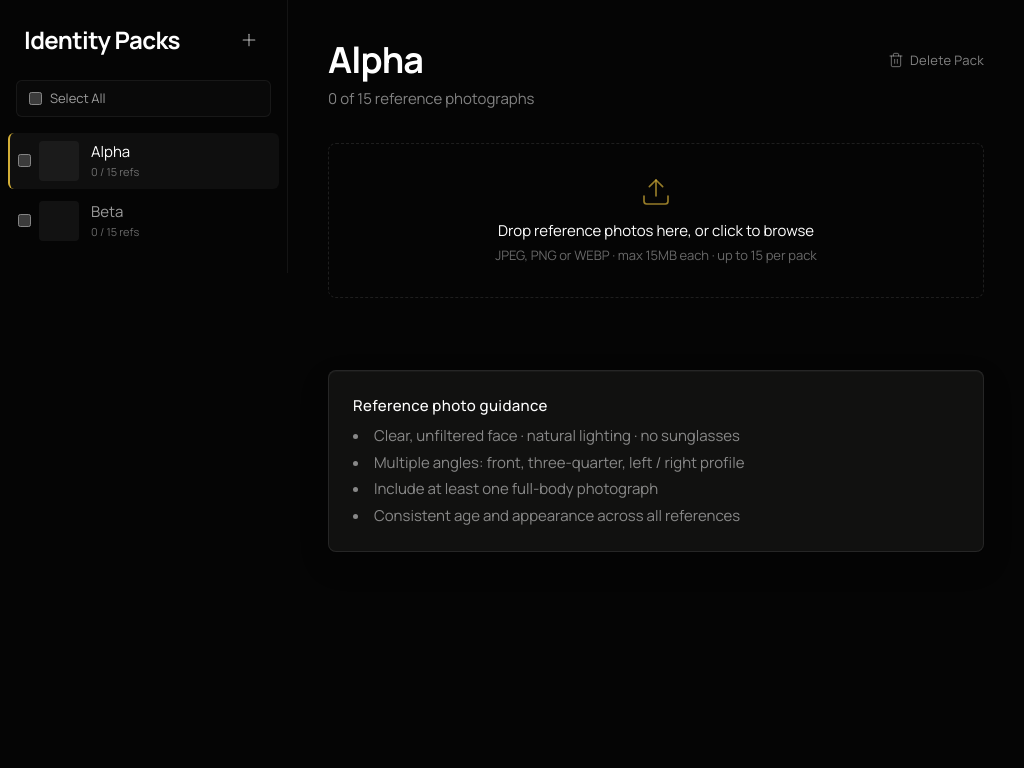
Test: Identity Packs recovery › selects, deselects, and selects all packs without changing the active pack
This screenshot has width=1024, height=768.
Click the checkbox with test id "select-pack-alpha": (24,161) [18,154,31,167]
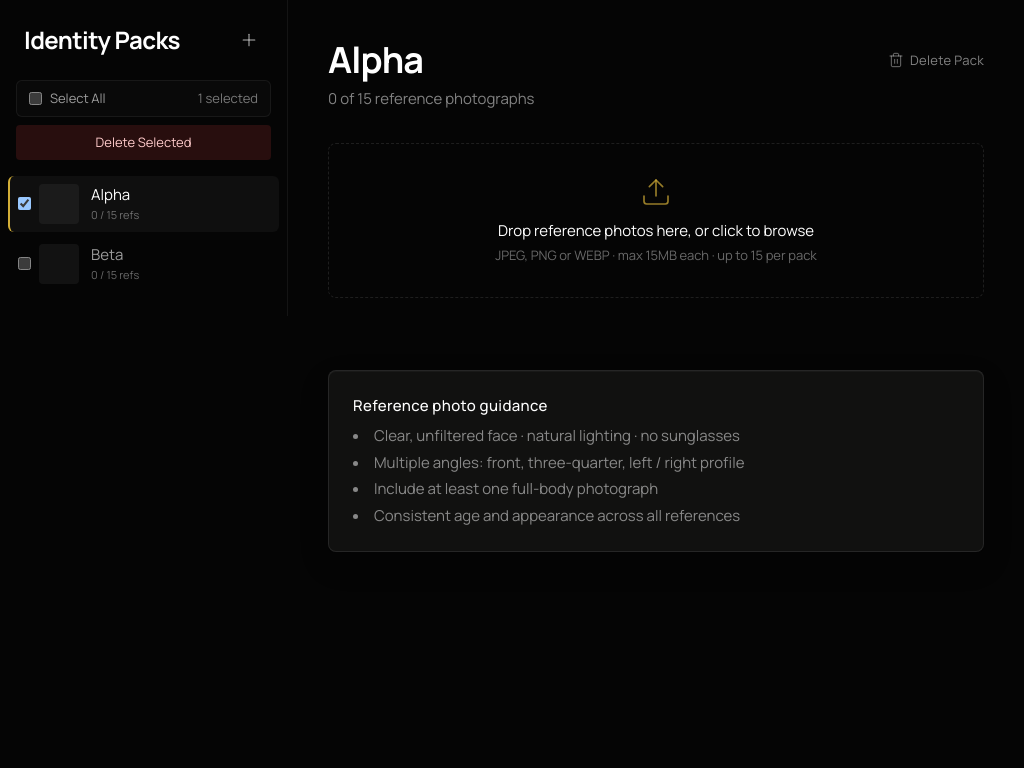
Now the checkbox with test id "select-pack-alpha" is checked, box [18,197,31,210]
Now the text "1 selected" is shown, box [198,89,258,108]
Click the checkbox with test id "select-pack-beta": (24,264) [18,257,31,270]
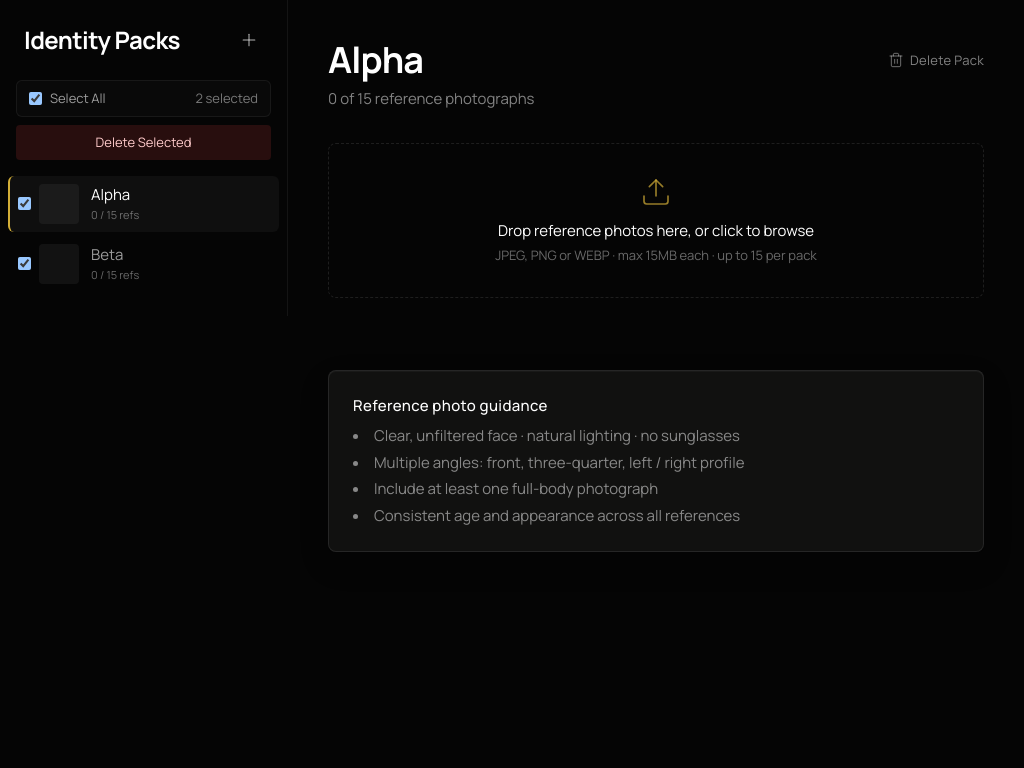
Now the text "2 selected" is shown, box [196,89,258,108]
Click the checkbox with test id "select-pack-alpha": (24,204) [18,197,31,210]
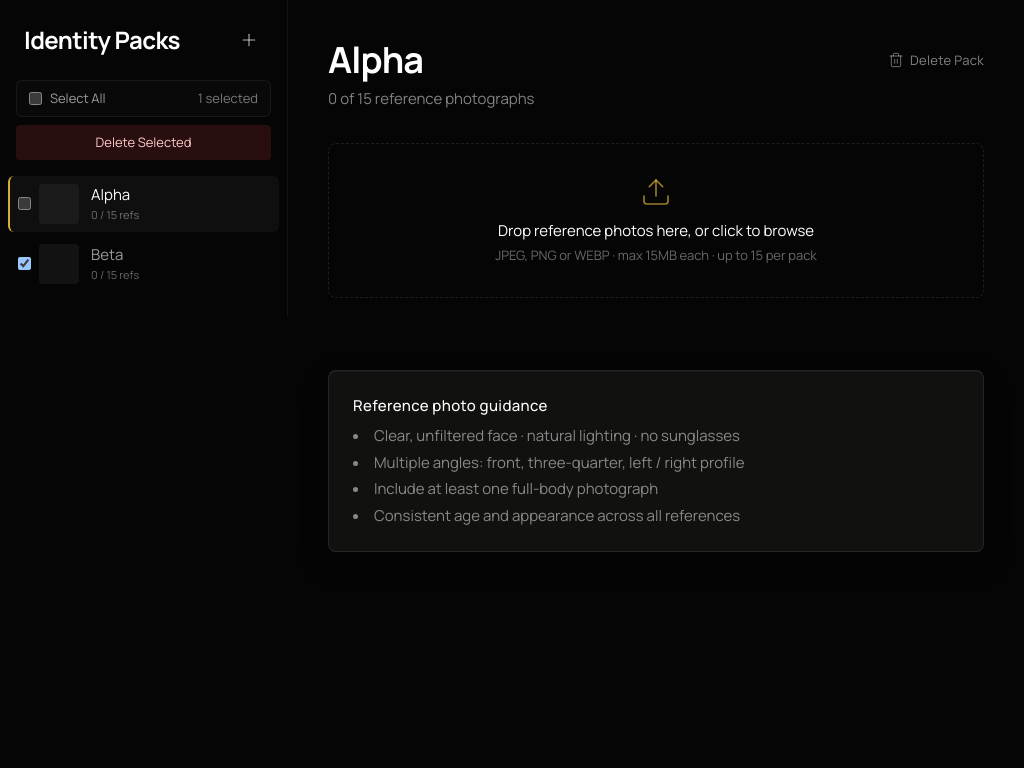
Now the checkbox with test id "select-pack-beta" is checked, box [18,257,31,270]
Now the text "1 selected" is shown, box [198,89,258,108]
Click the checkbox with test id "select-all-packs": (36,98) [29,92,42,105]
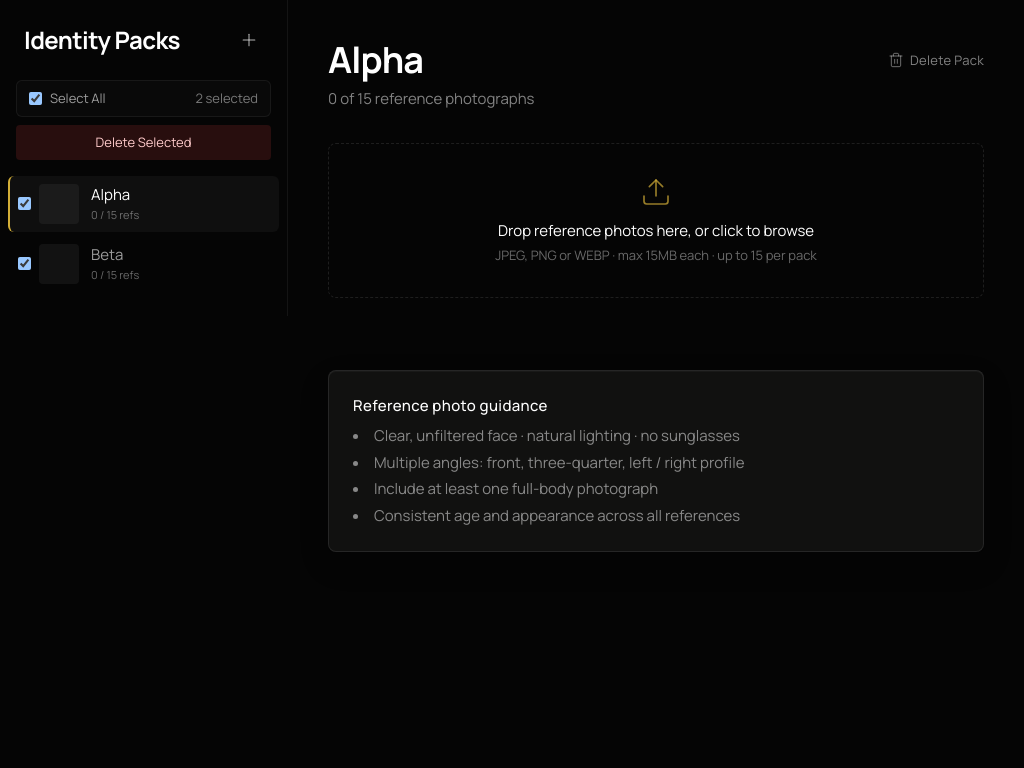
Now the checkbox with test id "select-pack-alpha" is checked, box [18,197,31,210]
Now the checkbox with test id "select-pack-beta" is checked, box [18,257,31,270]
Now the text "2 selected" is shown, box [196,89,258,108]
Click the checkbox with test id "select-all-packs": (36,98) [29,92,42,105]
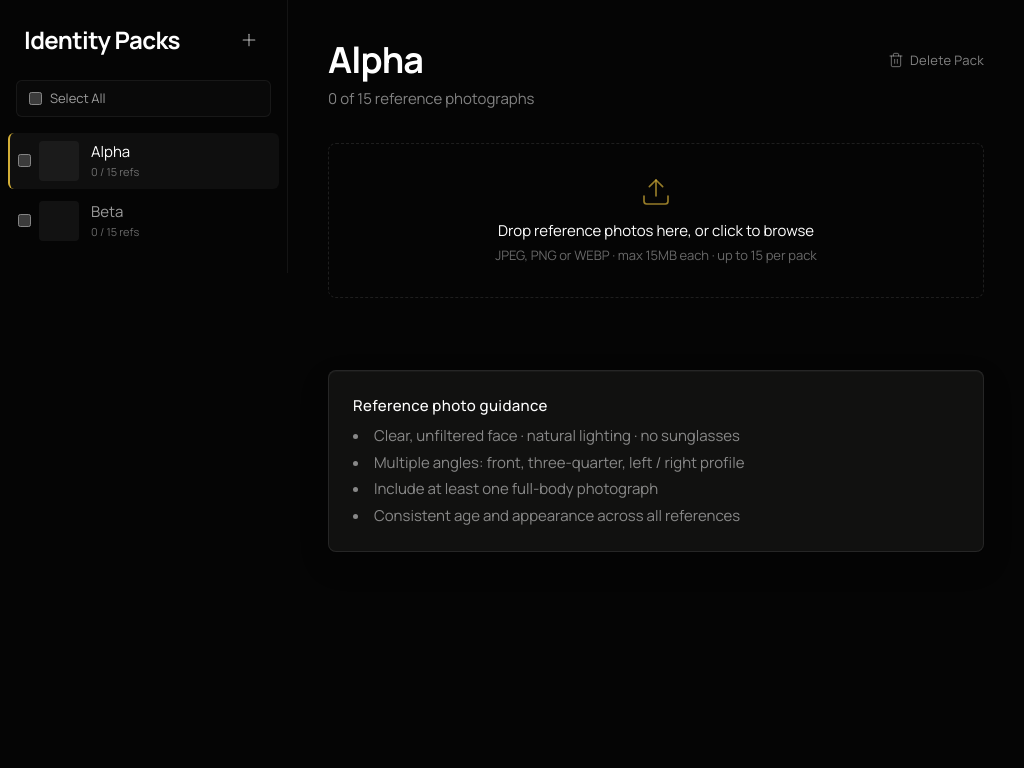
Now the checkbox with test id "select-pack-alpha" is not checked, box [18,154,31,167]
Now the checkbox with test id "select-pack-beta" is not checked, box [18,214,31,227]
